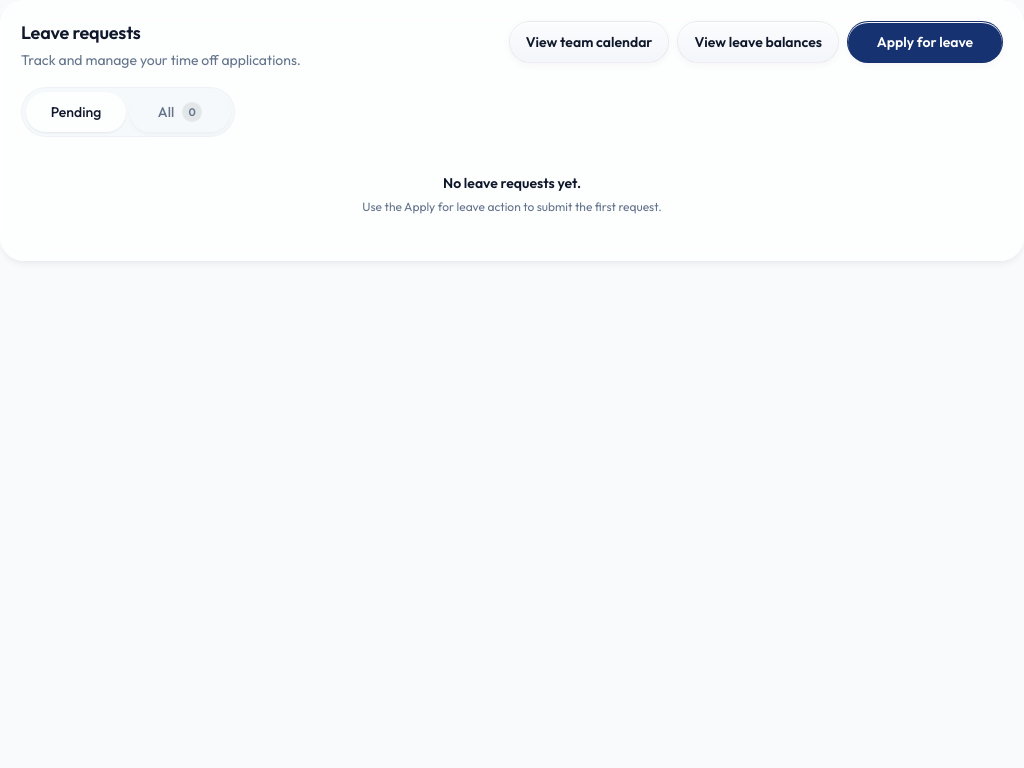
Test case: LeavesPage › surfaces duplicate overlap errors from leave submission
Expected: the heading "Leave requests" is shown, [21,21,141,44]
Click the button "Apply for leave" at (925, 42), box [847,21,1003,63]
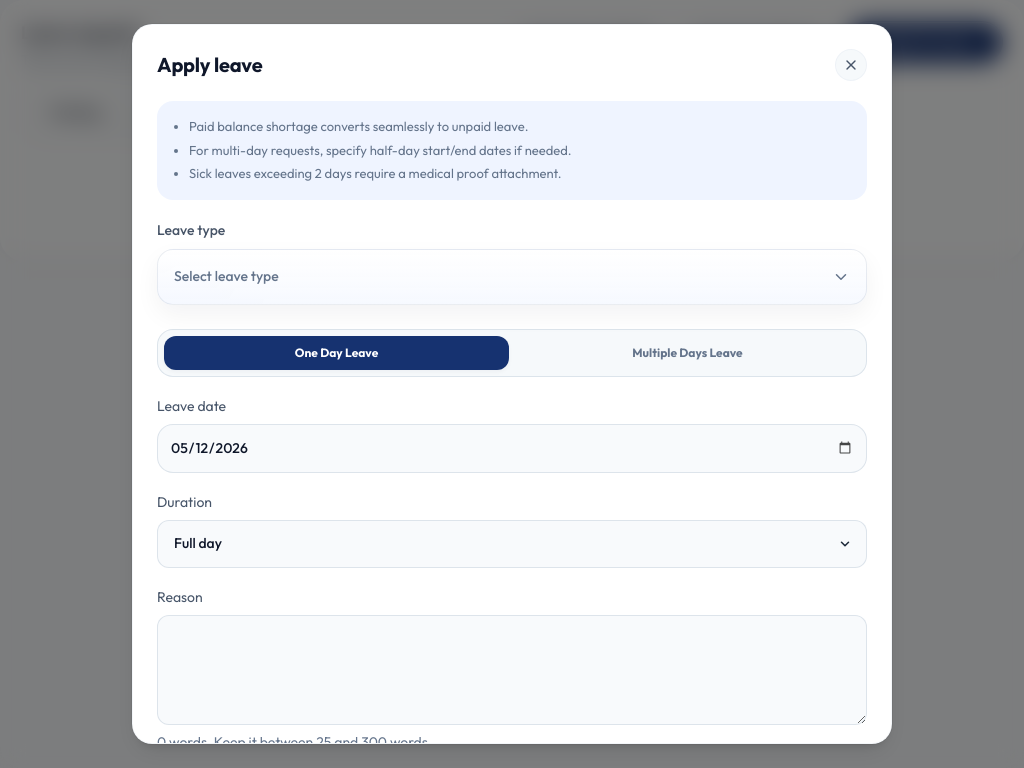
Click the button "Select leave type" at (226, 276), box [157,248,867,304]
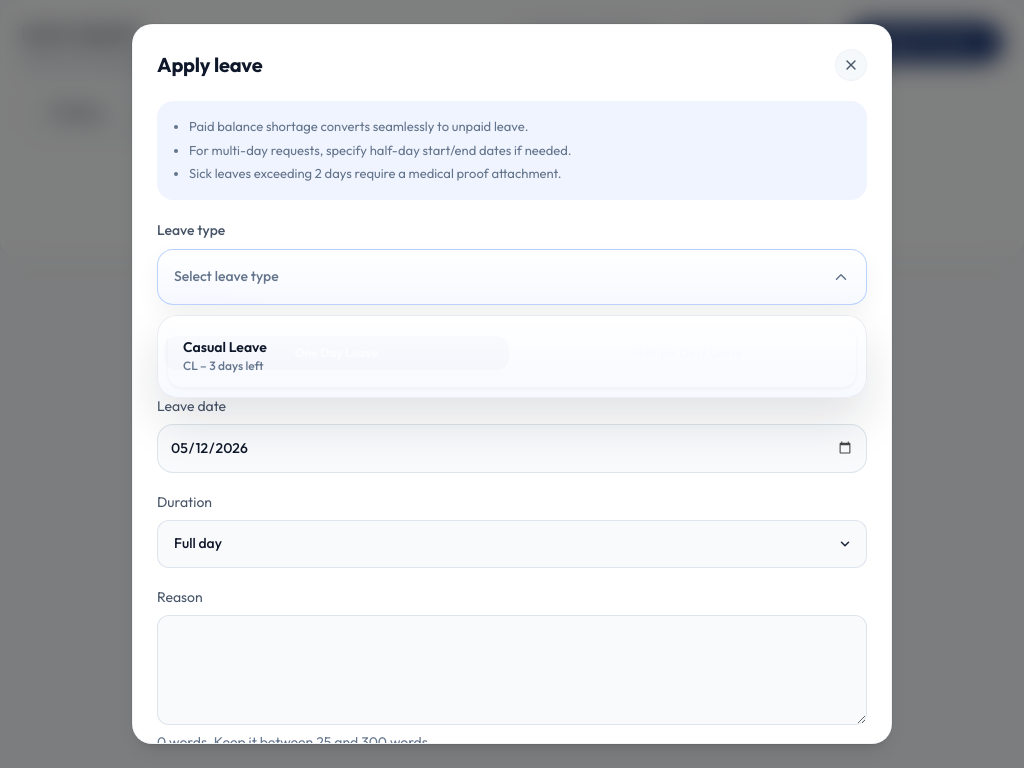
Click the option "Casual Leave CL – 3 days left" at (225, 346), box [168,326,856,387]
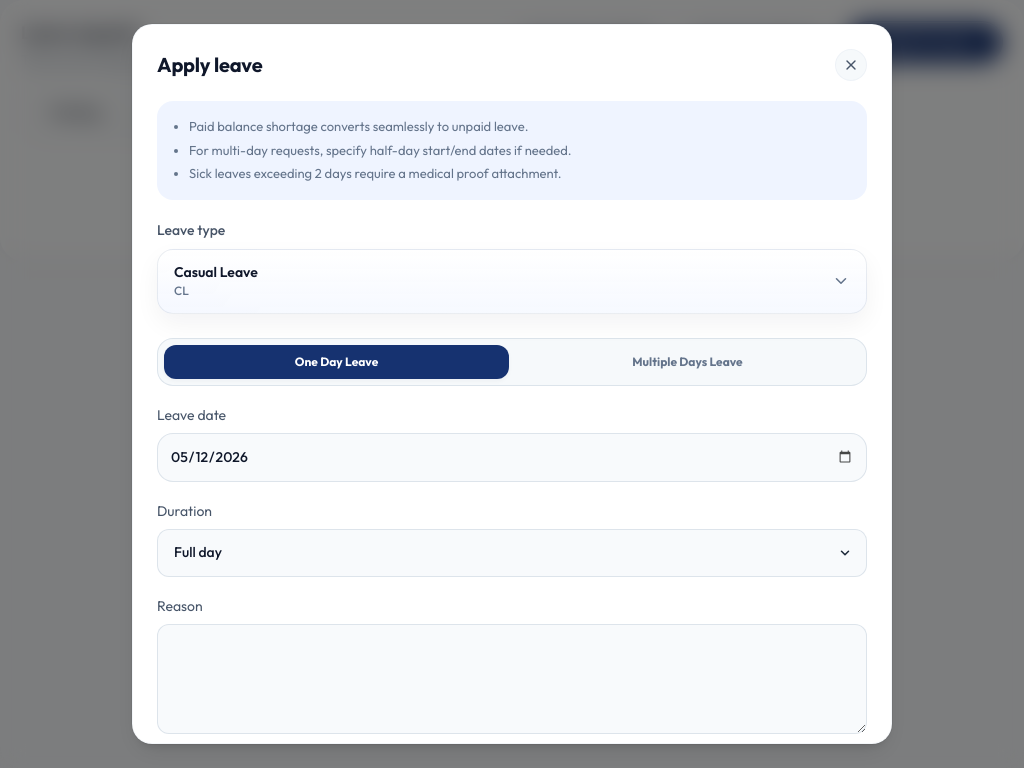
Type "I am requesting a planned leave to attend to important family responsibilities and complete necessary personal documentation tasks. I will ensure all my work is properly handed over." into the text box labelled "Reason 0 words. Keep it between 25 and 300 words." at (512, 679), box [157,624,867,734]
(page scrolled)
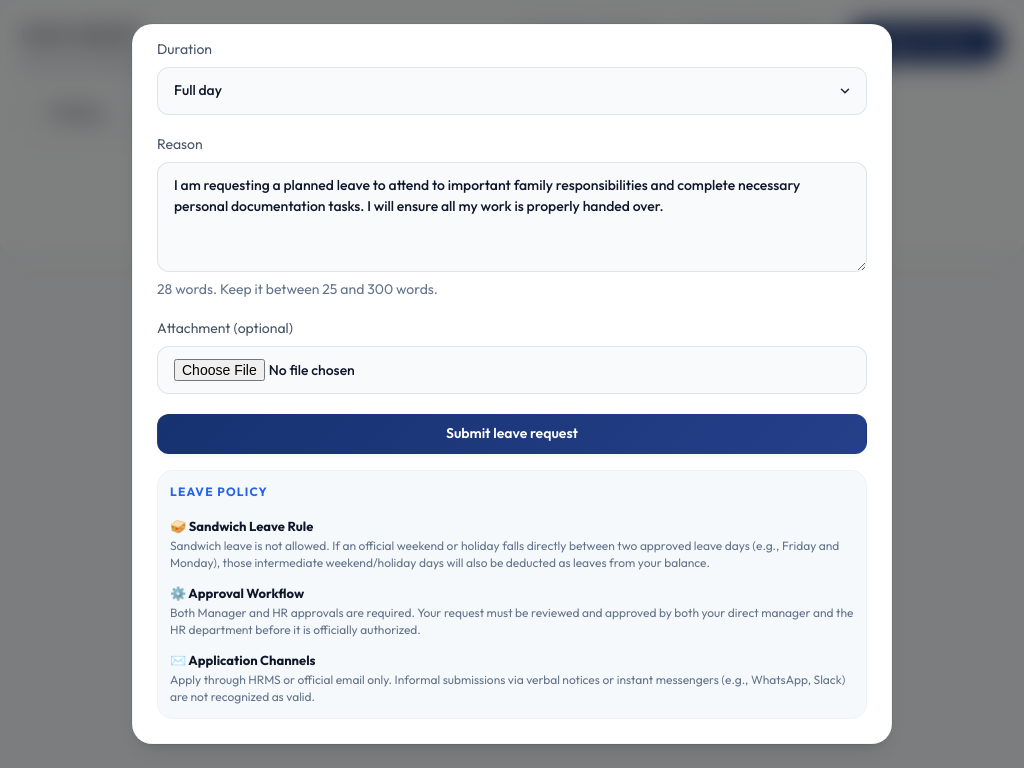
Result: the button "Submit leave request" is enabled
Click the button "Submit leave request" at (512, 434), box [157,414,867,454]
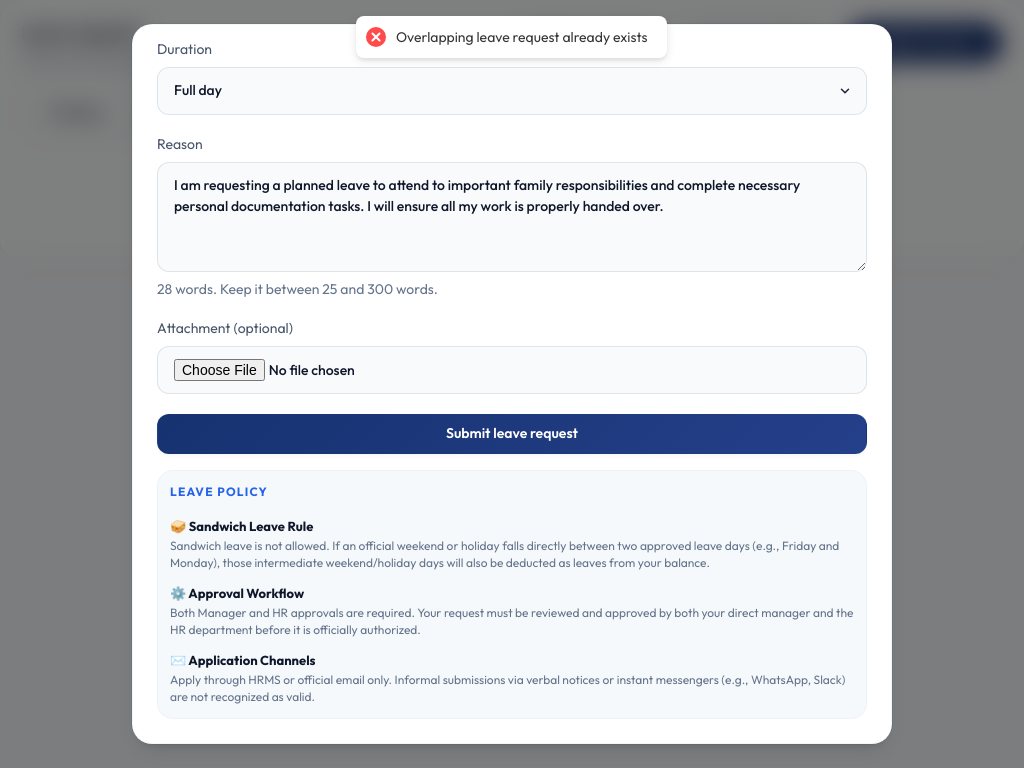
Result: the text "Overlapping leave request already exists" is shown at [396,28,648,46]
